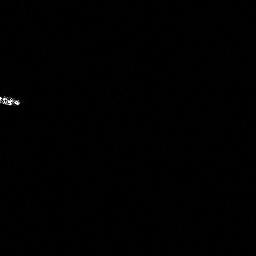ship: (1, 94, 20, 106)
